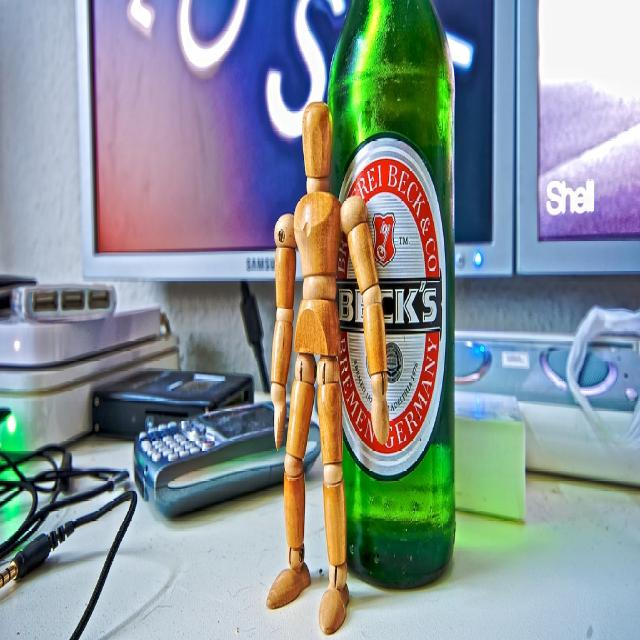becks: (337, 139, 449, 477)
